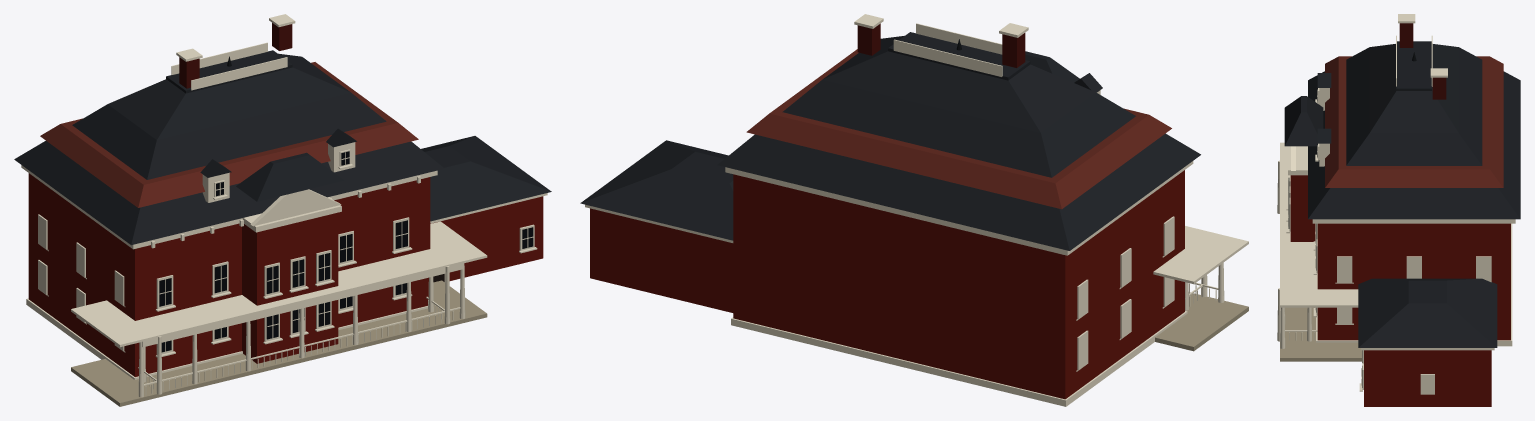
Rendered from VictorianHouse.obj.
3 renders of one model, left to right at view 1: azimuth 30°, elevation 25°; view 2: azimuth 150°, elevation 25°; view 3: azimuth 270°, elevation 25°, orthographic. The views are drawn at different scales.
Visible parts, largest first — view 1: VictorianHouse; view 2: VictorianHouse; view 3: VictorianHouse.
Boxes of the visible parts, x1=… form: VictorianHouse: x1=14, y1=14, x2=551, y2=406; VictorianHouse: x1=580, y1=14, x2=1248, y2=406; VictorianHouse: x1=1277, y1=14, x2=1520, y2=406.
Bounding box in the file's own units: 25.75 × 13.87 × 12.58.
